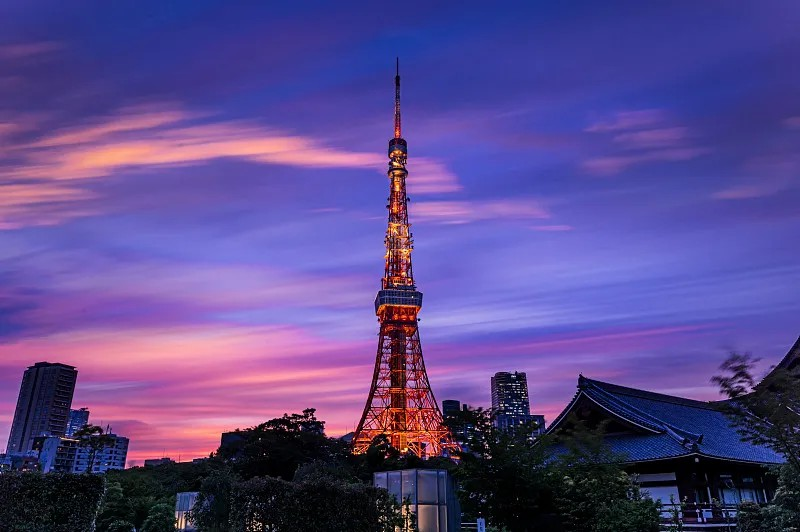Tokyo: (348, 54, 460, 463)
